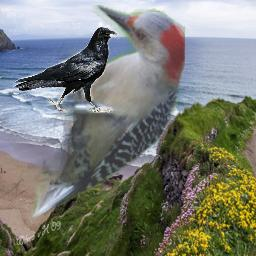Crow: (13, 27, 120, 113)
Woodpecker: (27, 5, 185, 223)
